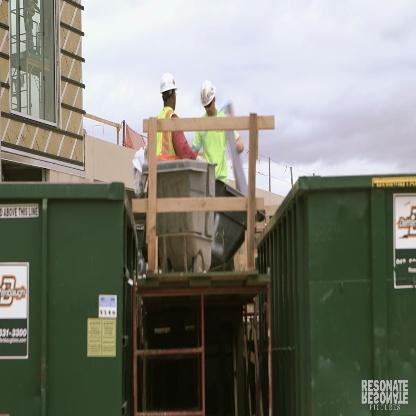helmet: (194, 76, 221, 122), (153, 72, 175, 109)
